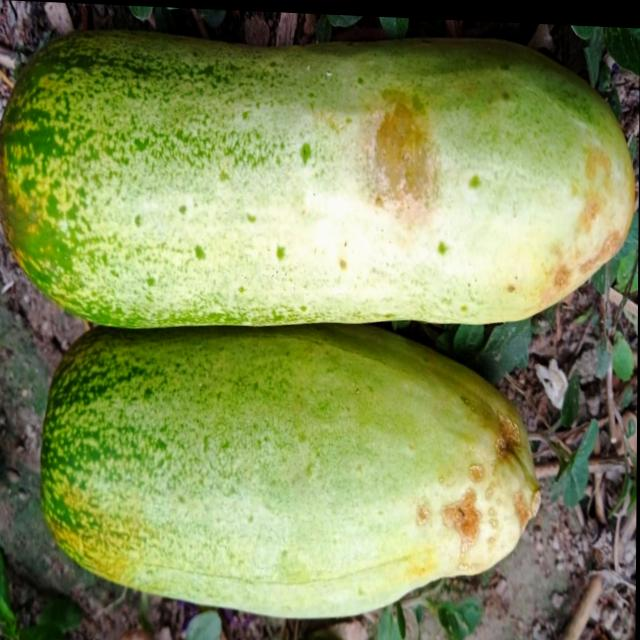Belly-Rot: (414, 400, 541, 562), (545, 135, 629, 289), (363, 80, 452, 220)
